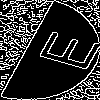E: (24, 25, 100, 73)
